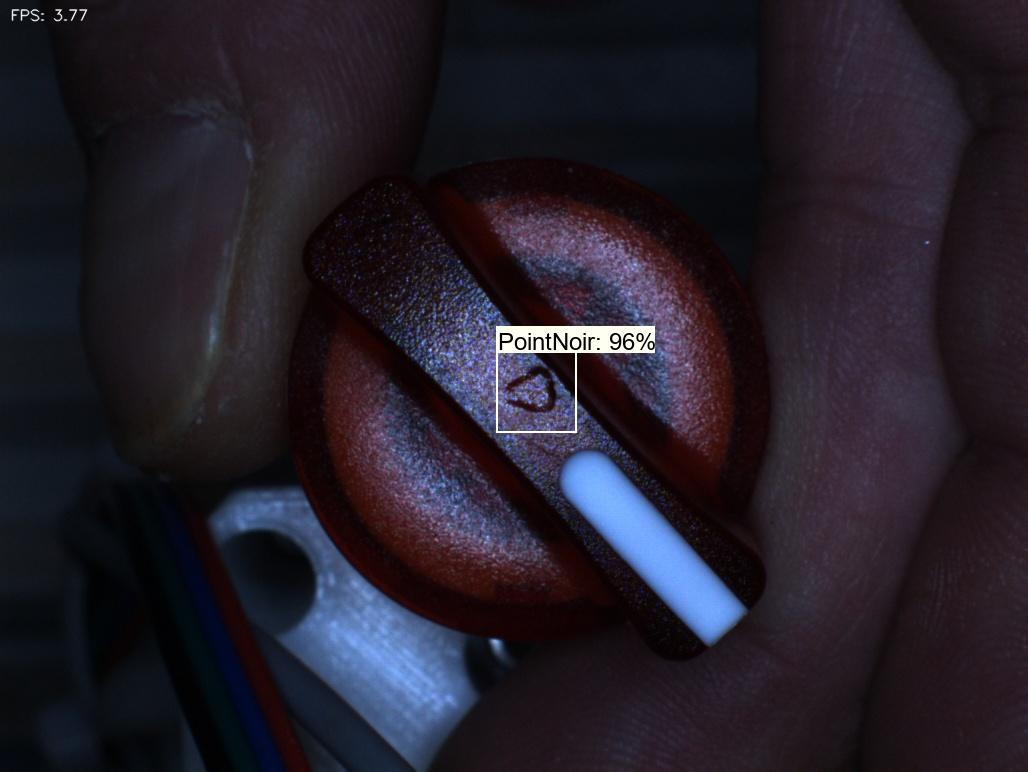Choc: (494, 352, 587, 447)
